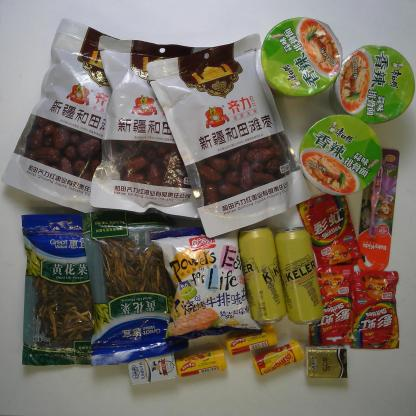Alcohol: (272, 222, 329, 328), (238, 222, 289, 330)
Candy: (294, 189, 366, 272), (346, 265, 404, 353), (305, 262, 360, 350), (172, 344, 230, 381), (250, 338, 304, 377), (226, 326, 280, 359)
Dried Food: (146, 32, 316, 241), (3, 15, 152, 220), (90, 32, 233, 223), (80, 206, 196, 368), (15, 206, 121, 368)
Instant Noodles: (298, 112, 387, 198), (256, 13, 344, 99), (333, 40, 416, 130)
Milk: (124, 349, 181, 390)
Personal Hygiene: (353, 145, 404, 276)
Puffed Food: (150, 220, 264, 342)
Tissue: (302, 344, 351, 382)
